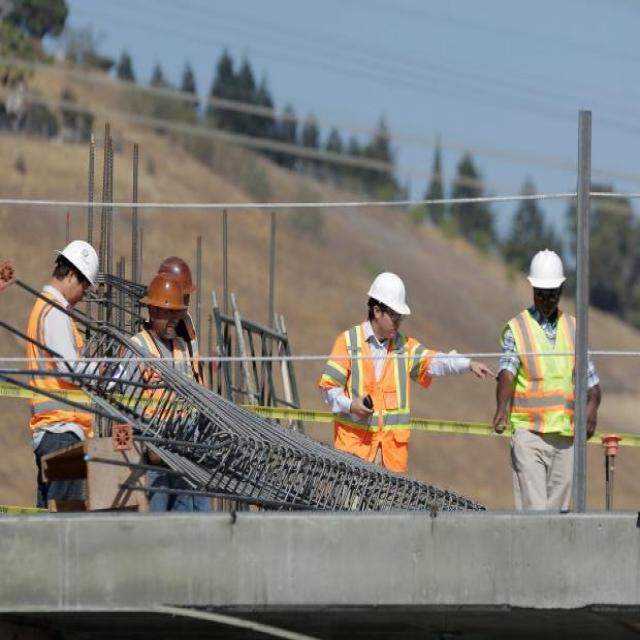Reflective-Jacket: (322, 325, 425, 470), (494, 303, 590, 445), (22, 289, 97, 442)
Safety-Helmet: (54, 231, 106, 293), (518, 240, 573, 298), (363, 266, 414, 318), (137, 271, 192, 314)
